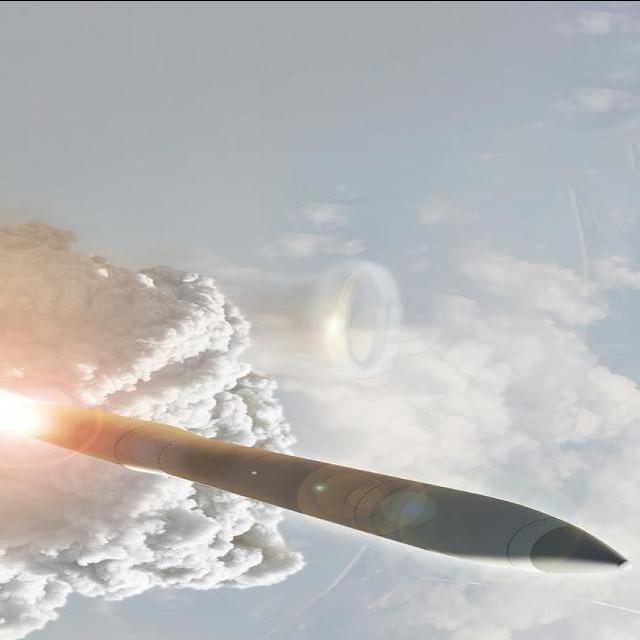missile: (20, 400, 629, 577)
